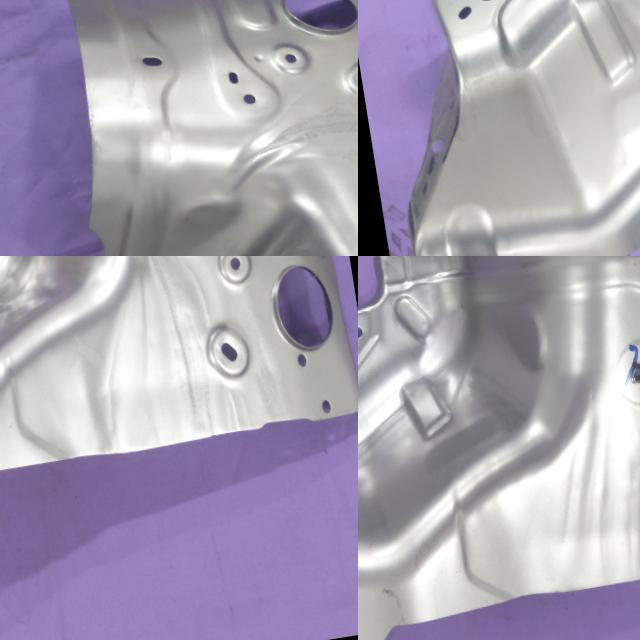Defect: (68, 210, 120, 256)
Healthy: (358, 256, 640, 640), (358, 0, 640, 256)
